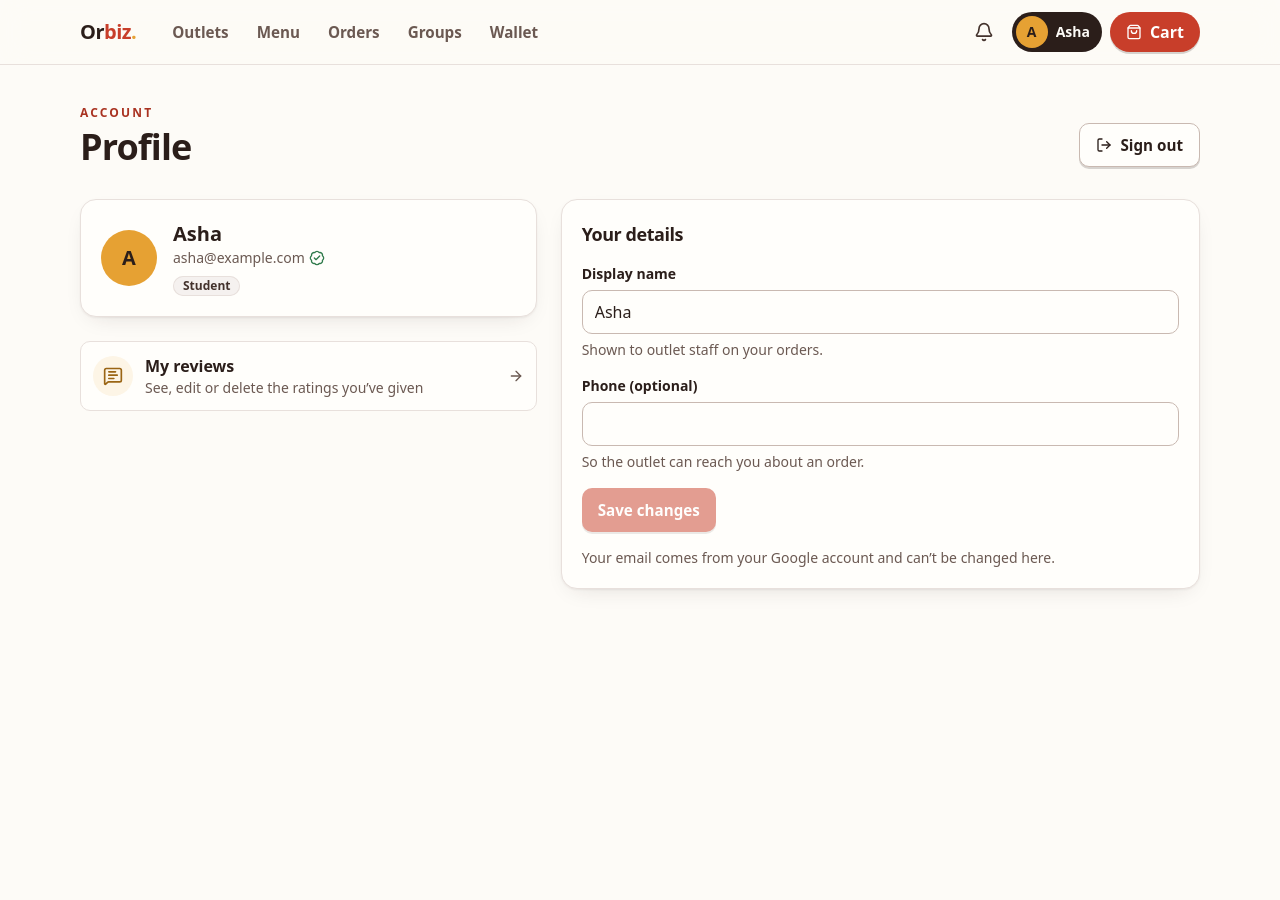
Test: <ProfilePage /> › saves only the editable fields and confirms
The image size is (1280, 900).
Expected: the button "Save changes" is disabled, [582, 488, 716, 532]
Type "+91 98765 43210" into the field labelled "Phone (optional)" at (880, 424), box [595, 403, 1166, 445]
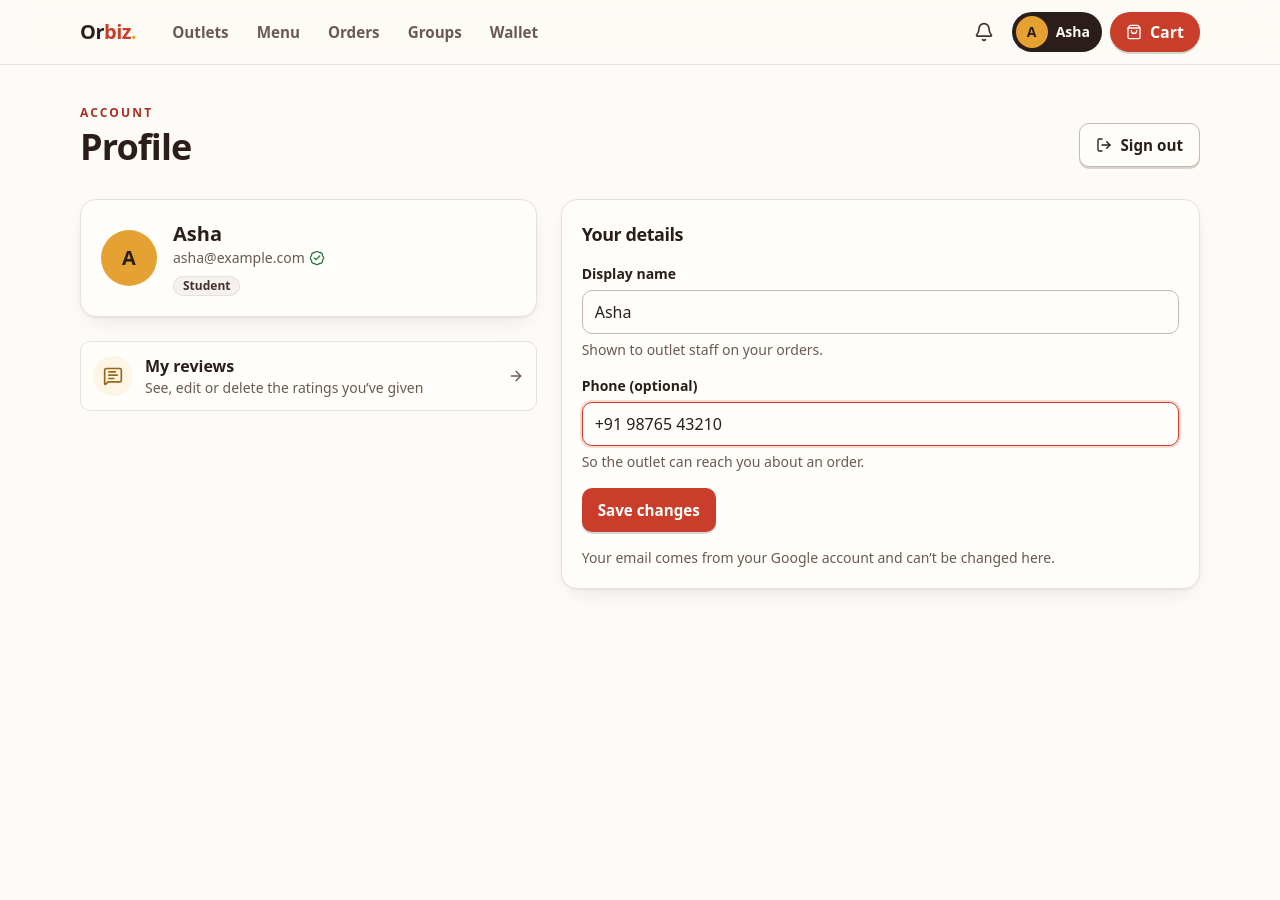
Click the button "Save changes" at (649, 510), box [582, 488, 716, 532]
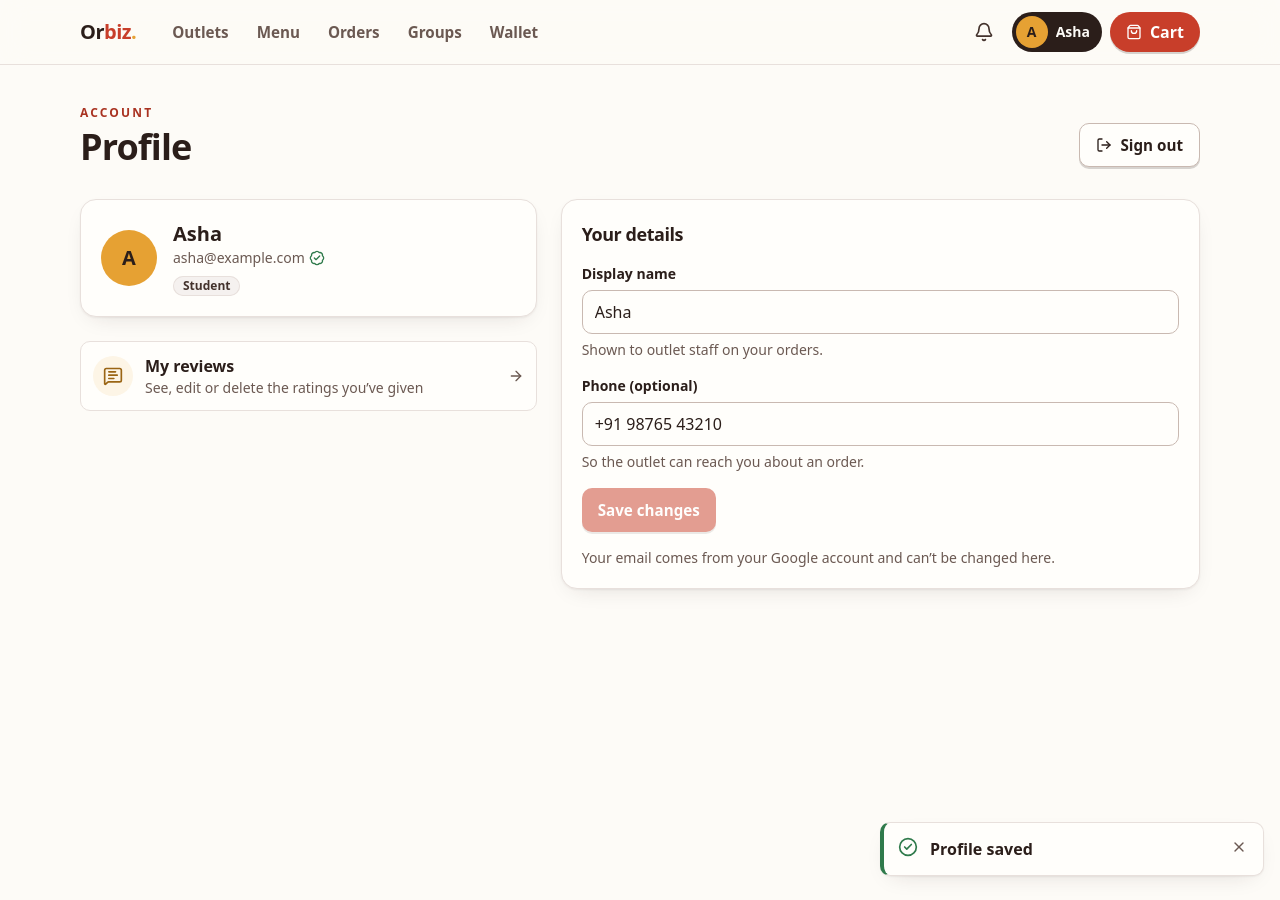
Expected: the text "Profile saved" is shown, [930, 838, 1033, 860]
